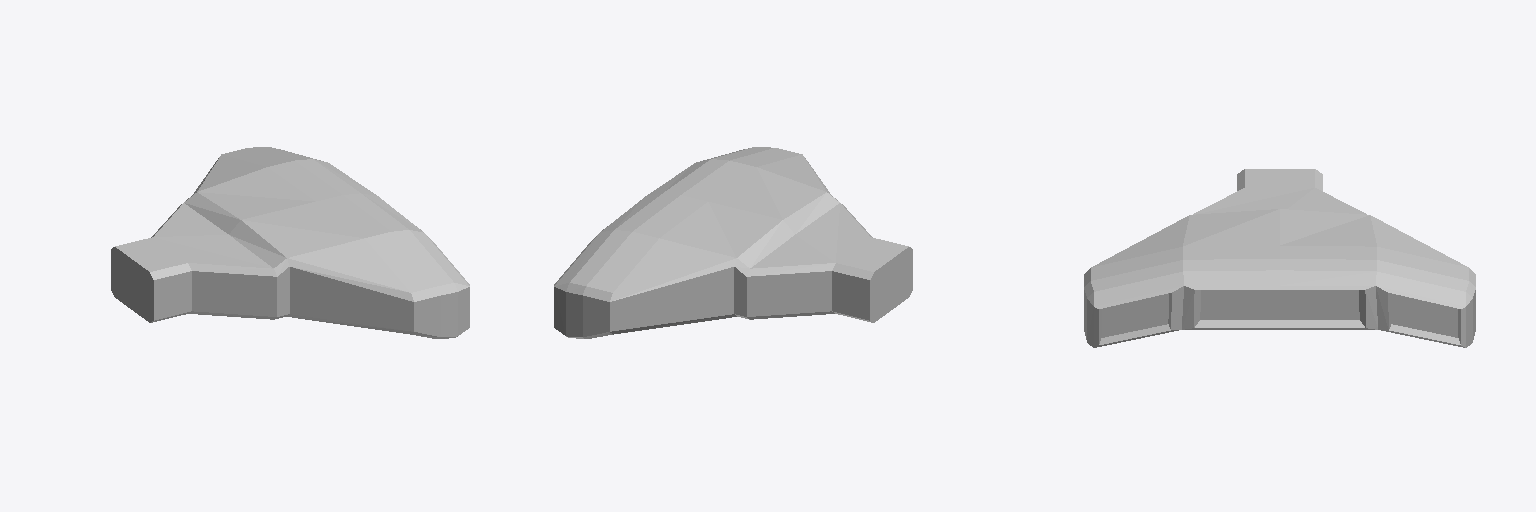
The model's file is FastEngine.obj.
3 views of the same model, side by side, from view 1: azimuth 30°, elevation 25°; view 2: azimuth 150°, elevation 25°; view 3: azimuth 270°, elevation 25° (orthographic).
Parts seen in each view (by area): view 1: Cube.001; view 2: Cube.001; view 3: Cube.001.
Part boxes in pixels (x1,y1,x2,y2): Cube.001: (111, 147, 469, 338); Cube.001: (554, 147, 912, 338); Cube.001: (1084, 169, 1475, 347).
Bounding box in the file's own units: 2.1 × 0.6446 × 2.88.